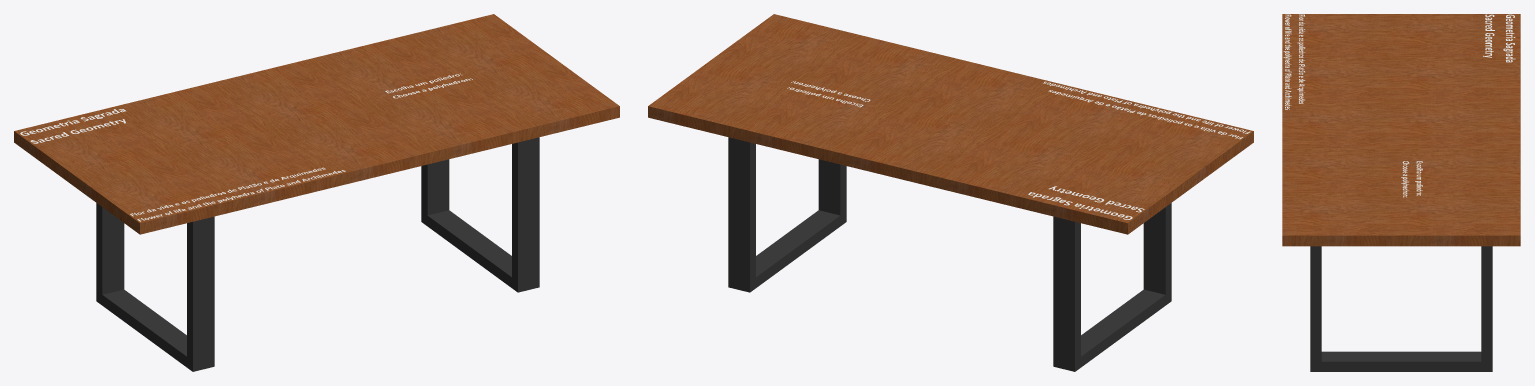
File: geomSagrada1f.glb
3 renders of one model, left to right at view 1: azimuth 30°, elevation 25°; view 2: azimuth 150°, elevation 25°; view 3: azimuth 270°, elevation 25°, orthographic. The views are drawn at different scales.
Parts seen in each view (by area): view 1: object 1, Composant#1 (×2), Flor da vida e o, Geometria Sagrad; view 2: object 1, Composant#1 (×2), Flor da vida e o, Geometria Sagrad; view 3: object 1, Composant#1, Flor da vida e o, Geometria Sagrad, Escolha um polie.
Boxes of the visible parts, left/top/right/bottom form: object 1: left=14, top=14, right=619, bottom=234; Composant#1 (×2): left=96, top=137, right=539, bottom=371; Flor da vida e o: left=130, top=167, right=345, bottom=221; Geometria Sagrad: left=20, top=109, right=126, bottom=143; object 1: left=648, top=14, right=1253, bottom=234; Composant#1 (×2): left=728, top=137, right=1171, bottom=371; Flor da vida e o: left=1043, top=81, right=1250, bottom=139; Geometria Sagrad: left=1028, top=186, right=1144, bottom=219; object 1: left=1282, top=14, right=1520, bottom=246; Composant#1: left=1310, top=246, right=1492, bottom=371; Flor da vida e o: left=1283, top=14, right=1305, bottom=109; Geometria Sagrad: left=1483, top=14, right=1515, bottom=62; Escolha um polie: left=1401, top=161, right=1422, bottom=197.
Bounding box in the file's own units: 2.2 × 0.7711 × 1.
Materials: 3 (1 with a texture image).
